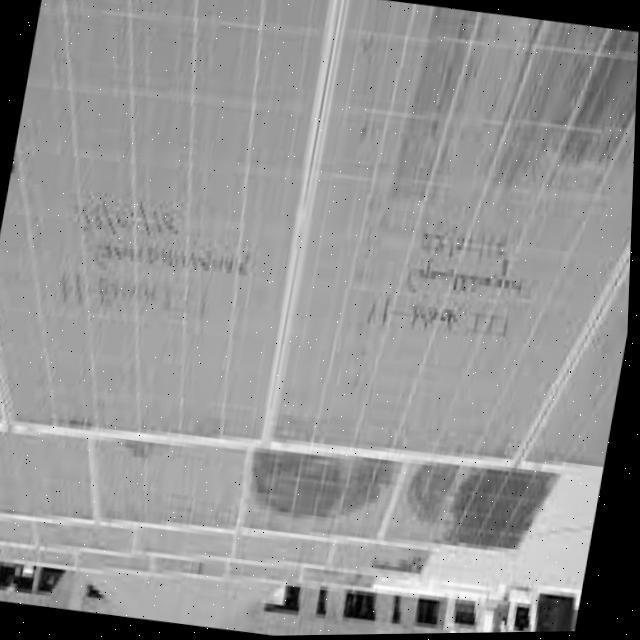Anomaly Solar Panel: (269, 0, 639, 471), (383, 462, 564, 556), (246, 450, 409, 545), (94, 439, 255, 535), (0, 432, 95, 523), (137, 524, 239, 565), (234, 533, 340, 572)
Surface Contaminant: (275, 0, 639, 468), (97, 437, 252, 537), (244, 457, 409, 544), (382, 461, 485, 547), (0, 432, 94, 524), (137, 521, 240, 564), (233, 536, 338, 570)
